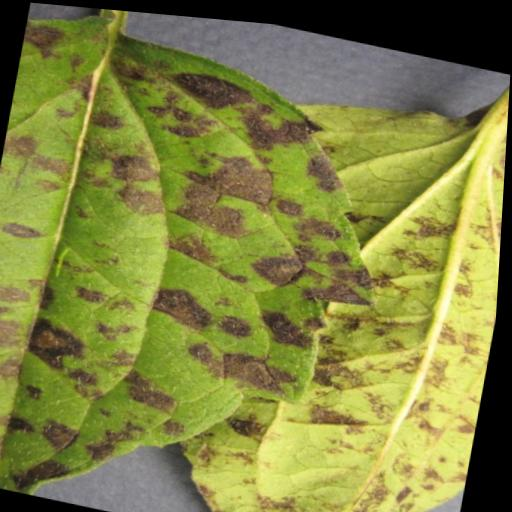Septoria: (0, 1, 421, 512), (165, 46, 510, 512)
